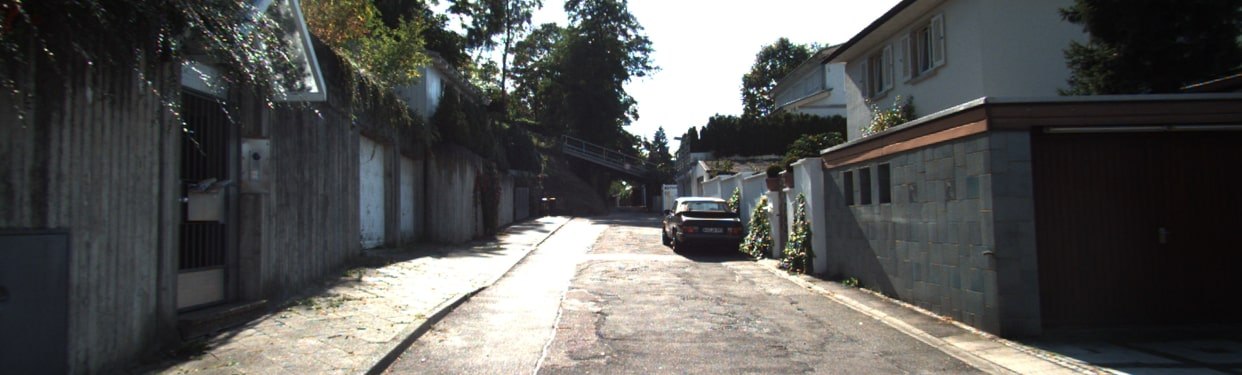car: (655, 187, 747, 262)
